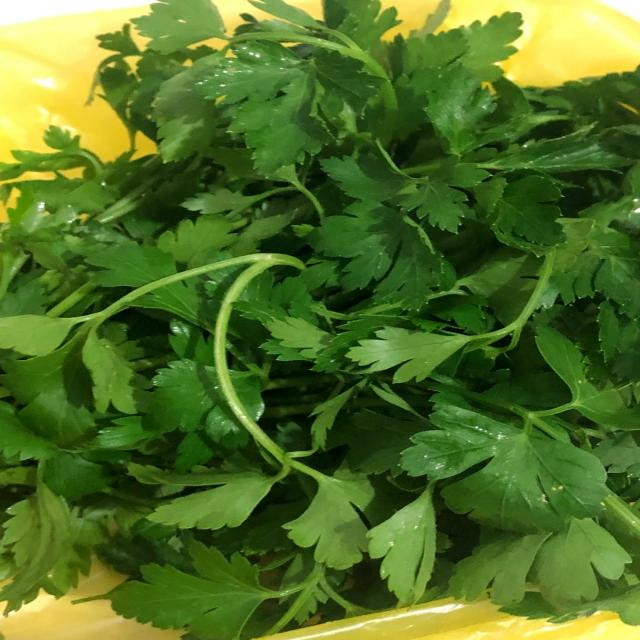parsley: (5, 5, 640, 633)
